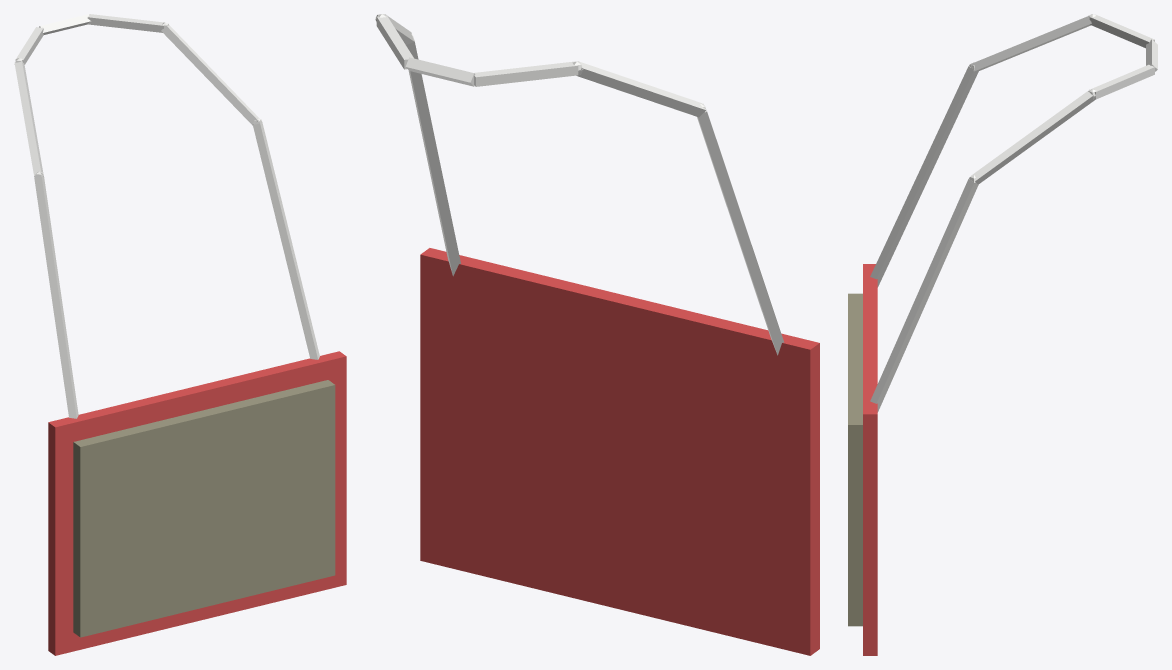
Rendered from HJ_CartelNumero.fbx.
3 views of the same model, side by side, from view 1: azimuth 30°, elevation 25°; view 2: azimuth 150°, elevation 25°; view 3: azimuth 270°, elevation 25° (orthographic). The views are drawn at different scales.
Visible parts, largest first — view 1: HJ_CartelNumero; view 2: HJ_CartelNumero; view 3: HJ_CartelNumero.
Part boxes in pixels (bbox=[...]): HJ_CartelNumero: bbox=[14, 14, 346, 655]; HJ_CartelNumero: bbox=[375, 14, 819, 655]; HJ_CartelNumero: bbox=[848, 14, 1157, 655].
Bounding box in the file's own units: 0.24 × 0.394 × 0.209.
